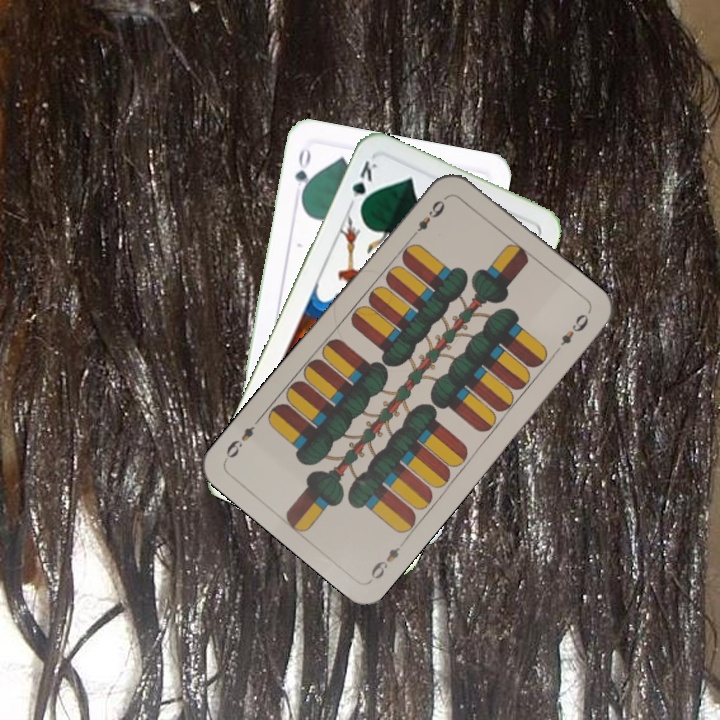E9: (366, 535, 410, 582), (407, 195, 448, 241)
GK: (344, 156, 381, 214)
GO: (290, 144, 314, 203)
